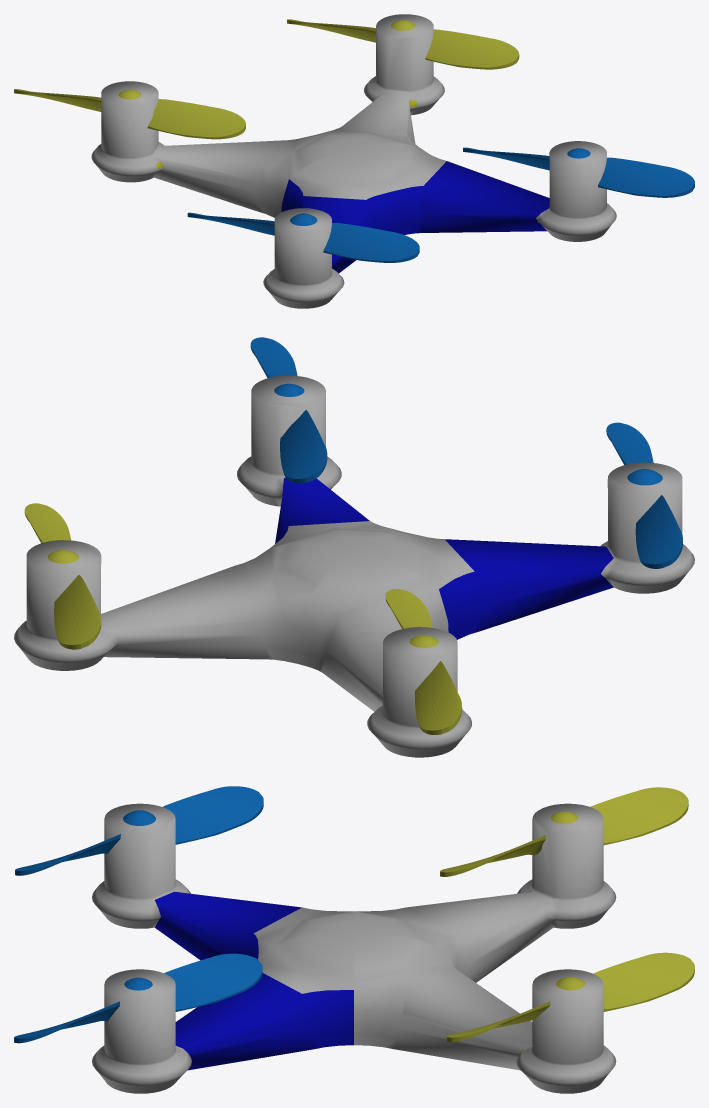
File: dronev31.obj
3 renders of one model, top to bottom at view 1: azimuth 30°, elevation 25°; view 2: azimuth 150°, elevation 25°; view 3: azimuth 270°, elevation 25°, orthographic. The views are drawn at different scales.
Visible parts, largest first — view 1: Cube, Object.1, Object.003_Object.004, Object.000_Object.002, Object.002_Object.003; view 2: Cube, Object.1, Object.002_Object.003, Object.000_Object.002, Object.003_Object.004; view 3: Cube, Object.1, Object.002_Object.003, Object.000_Object.002, Object.003_Object.004.
Part boxes in pixels (x1,y1,x2,y2): Cube: (91, 14, 616, 308); Object.1: (187, 212, 419, 262); Object.003_Object.004: (14, 89, 245, 139); Object.000_Object.002: (463, 147, 694, 197); Object.002_Object.003: (287, 19, 519, 69); Cube: (14, 375, 694, 757); Object.1: (606, 422, 682, 568); Object.002_Object.003: (24, 503, 101, 649); Object.000_Object.002: (250, 337, 327, 483); Object.003_Object.004: (385, 589, 462, 734); Cube: (92, 803, 616, 1093); Object.1: (15, 786, 263, 875); Object.002_Object.003: (446, 952, 694, 1042); Object.000_Object.002: (14, 953, 262, 1043); Object.003_Object.004: (440, 787, 688, 876).
Size of the model in its own units: 4.84 by 0.9642 by 5.56.
